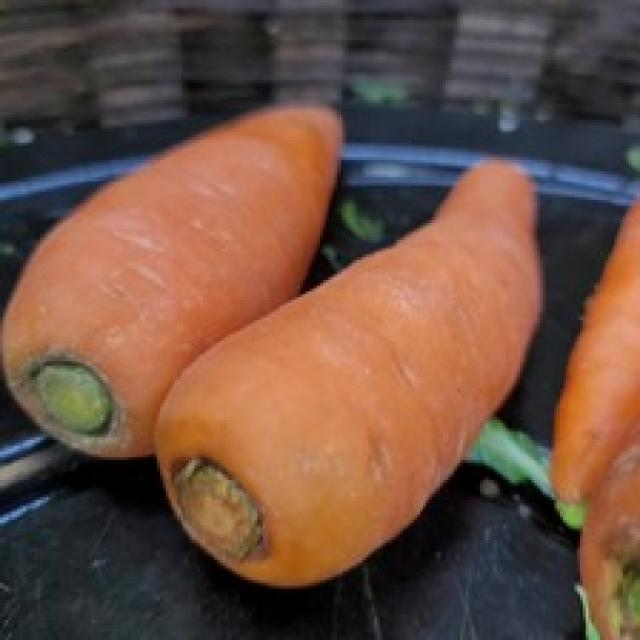carrot: (154, 158, 546, 590), (0, 76, 346, 460)
